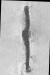V24: (3, 0, 47, 74)
